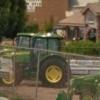Tractor: (5, 27, 76, 86)
